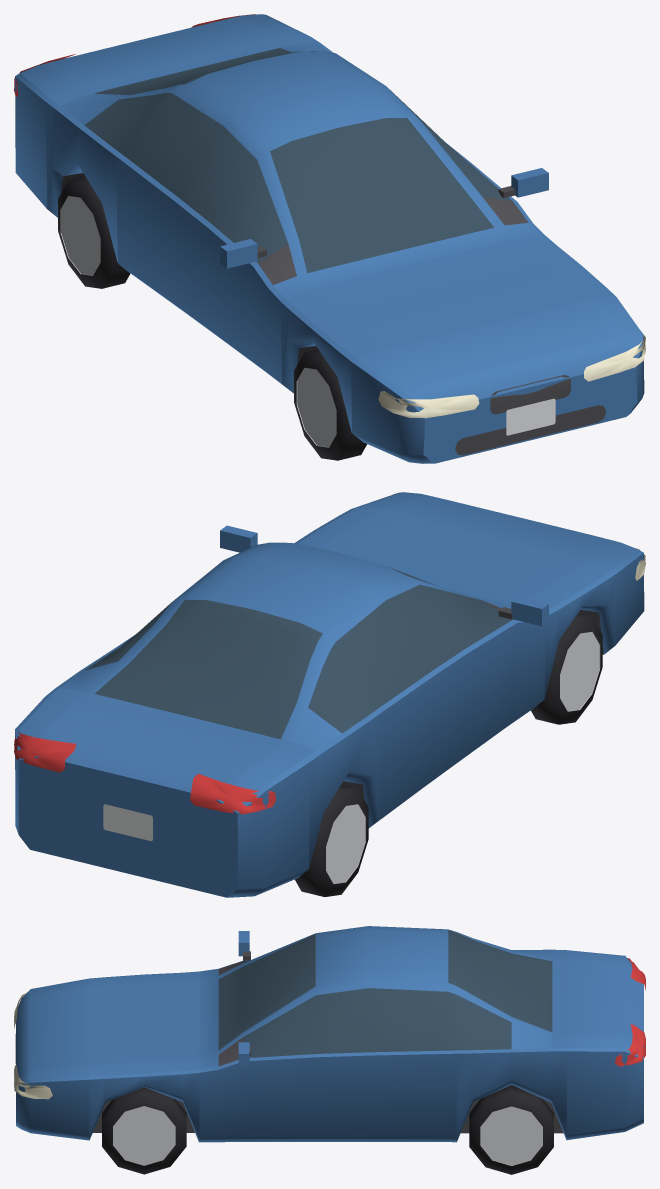
The model's file is site_car1.fbx.
3 views of the same model, one above another, from view 1: azimuth 30°, elevation 25°; view 2: azimuth 150°, elevation 25°; view 3: azimuth 270°, elevation 25° (orthographic). The views are drawn at different scales.
Parts seen in each view (by area): view 1: a2020/0/site_car1; view 2: a2020/0/site_car1; view 3: a2020/0/site_car1.
Part boxes in pixels (x1,y1,x2,y2): a2020/0/site_car1: (14,14,645,463); a2020/0/site_car1: (14,492,645,897); a2020/0/site_car1: (14,926,645,1174).
Bounding box in the file's own units: 2.15 × 1.47 × 4.68.
